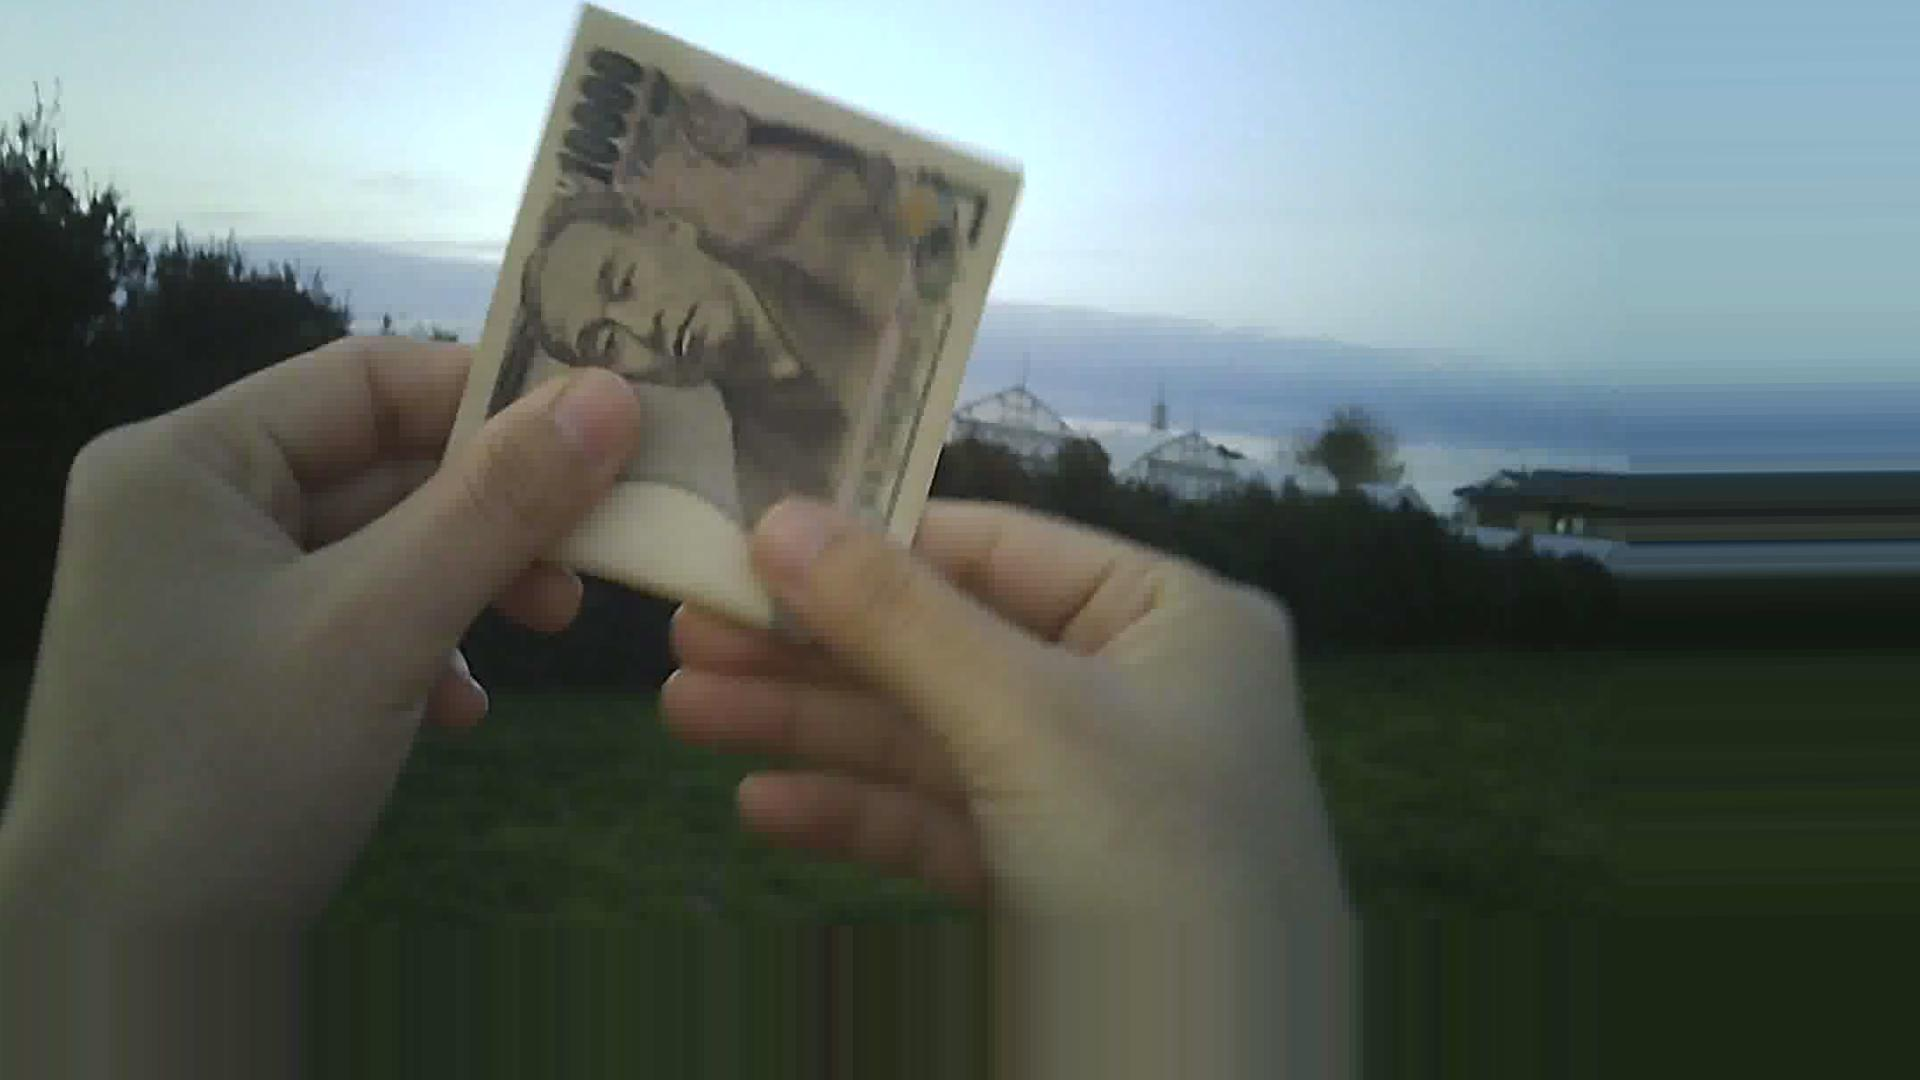10,000 Yen: (384, 11, 988, 666)
